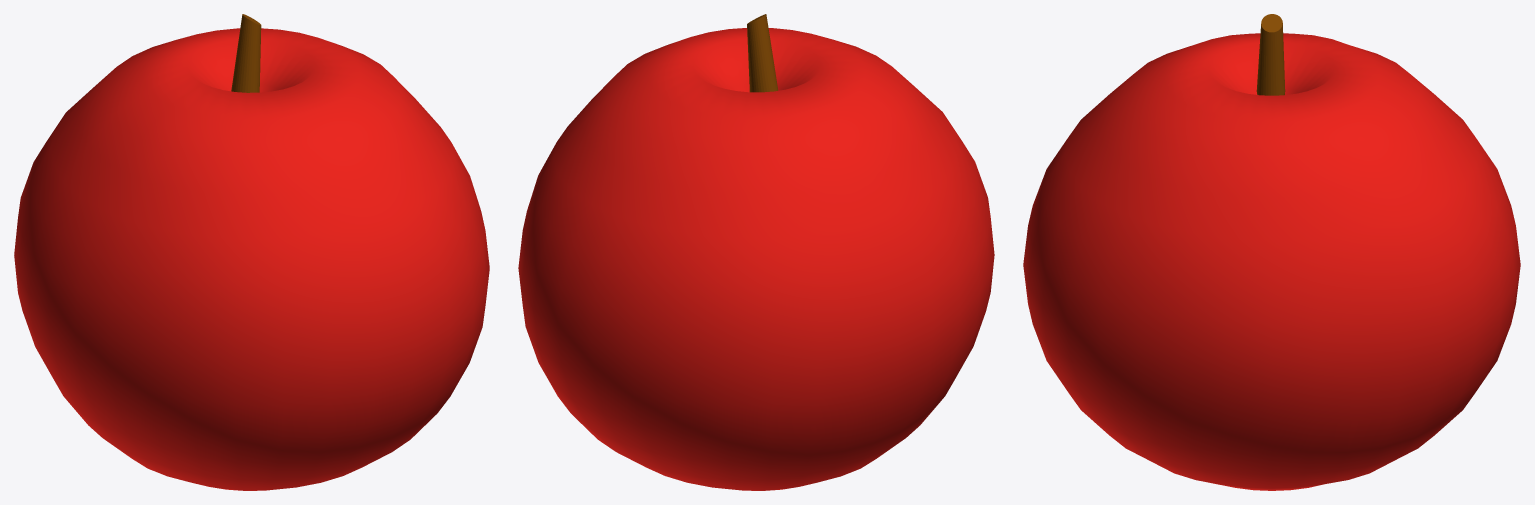
Rendered from apple.glb.
3 renders of one model, left to right at view 1: azimuth 30°, elevation 25°; view 2: azimuth 150°, elevation 25°; view 3: azimuth 270°, elevation 25°, orthographic.
Visible parts, largest first — view 1: 球, 円柱; view 2: 球, 円柱; view 3: 球, 円柱.
Boxes of the visible parts, <box> form: 球: <box>14,28,489,490</box>; 円柱: <box>231,14,261,92</box>; 球: <box>518,28,994,490</box>; 円柱: <box>747,14,778,92</box>; 球: <box>1023,33,1520,490</box>; 円柱: <box>1256,14,1285,95</box>.
Size of the model in its own units: 2 by 2.05 by 2.13.
